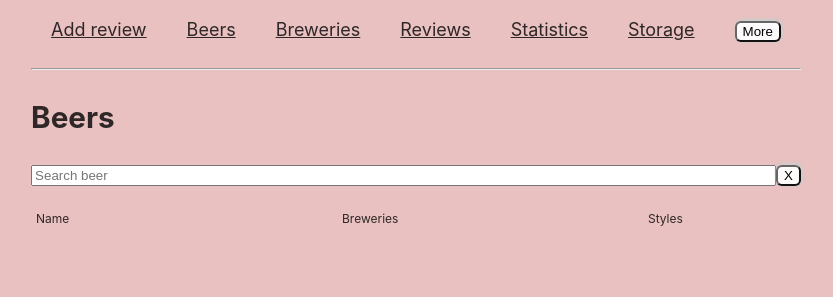
Test: loads annual stats directly
Click the link "Statistics" at (549, 30), box [511, 19, 588, 40]
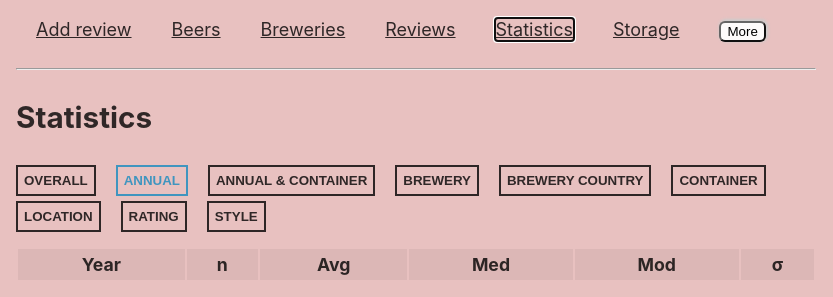
Check: the column heading "Year" is shown, box [18, 249, 185, 280]
